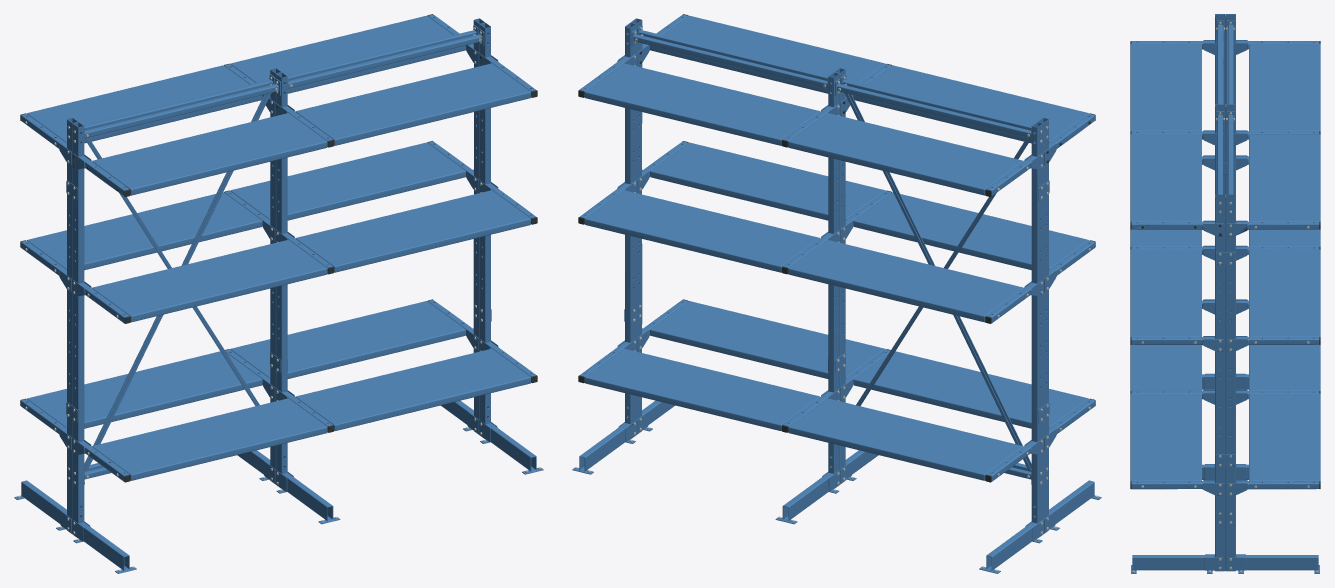
File: rack_f10.glb
The picture shows the model from 3 angles, left to right: view 1: azimuth 30°, elevation 25°; view 2: azimuth 150°, elevation 25°; view 3: azimuth 270°, elevation 25°; orthographic projection. The views are drawn at different scales.
Bounding box in the file's own units: 2.11 × 1.95 × 0.8997.
